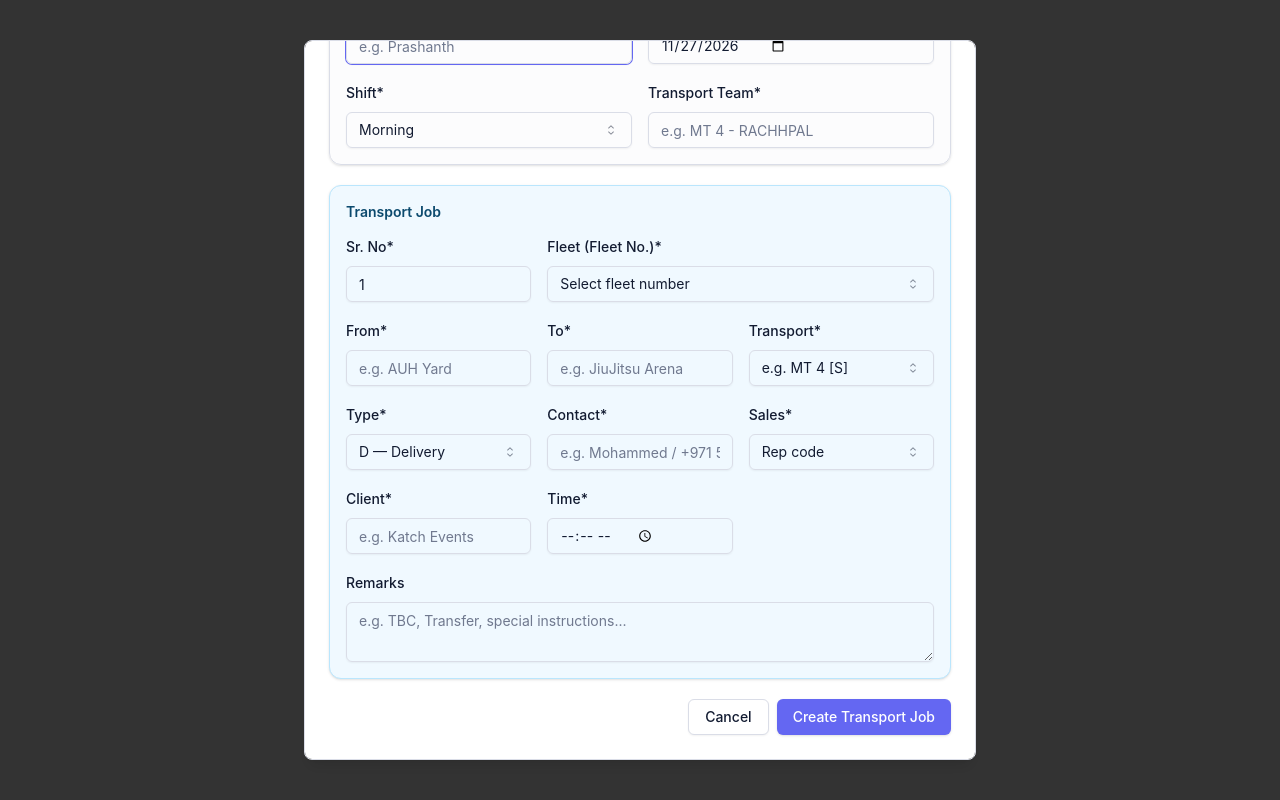
Scenario: TransportJobDialog › shows field-level messages and creates nothing when required fields are empty
(page scrolled)
Click the button "Create Transport Job": (864, 717) [777,699,951,735]
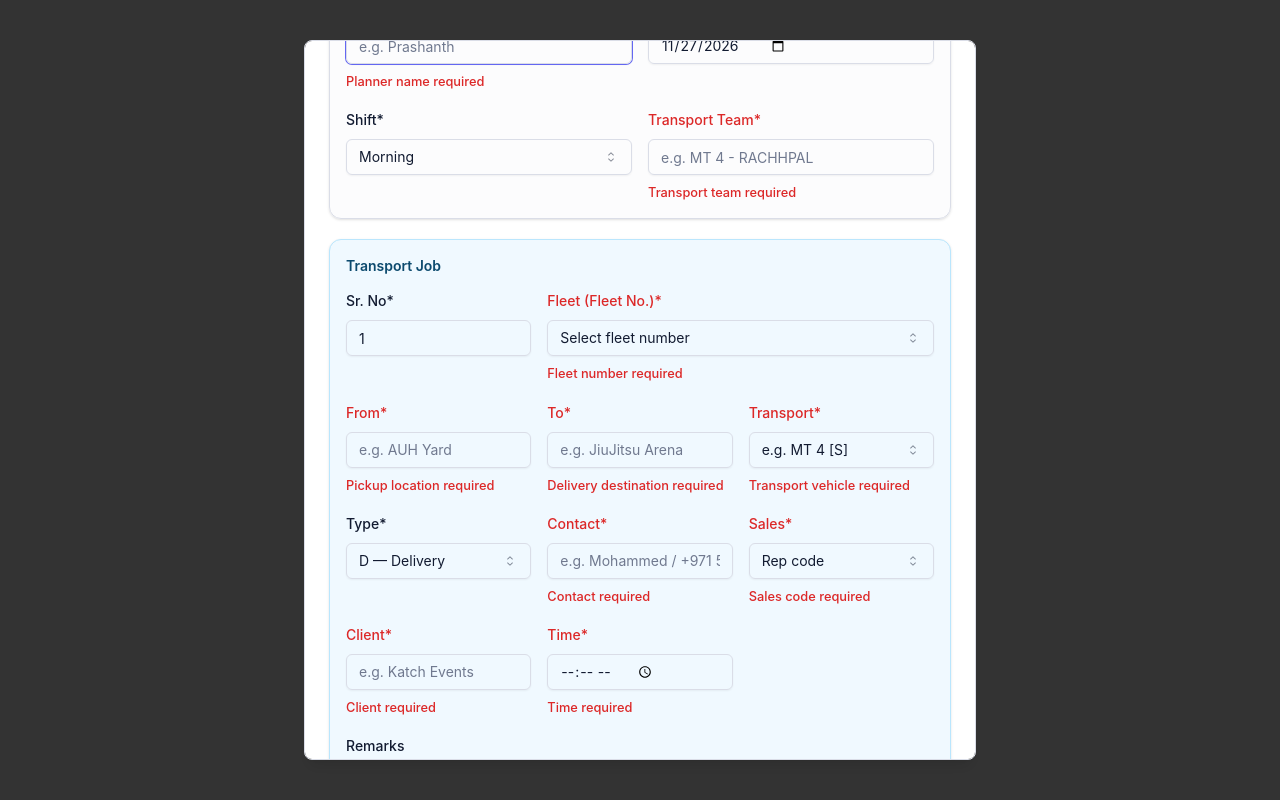
Expected: the text "Planner name required" is shown, [346,74,484,89]
Expected: the text "Delivery destination required" is shown, [547,476,733,495]
